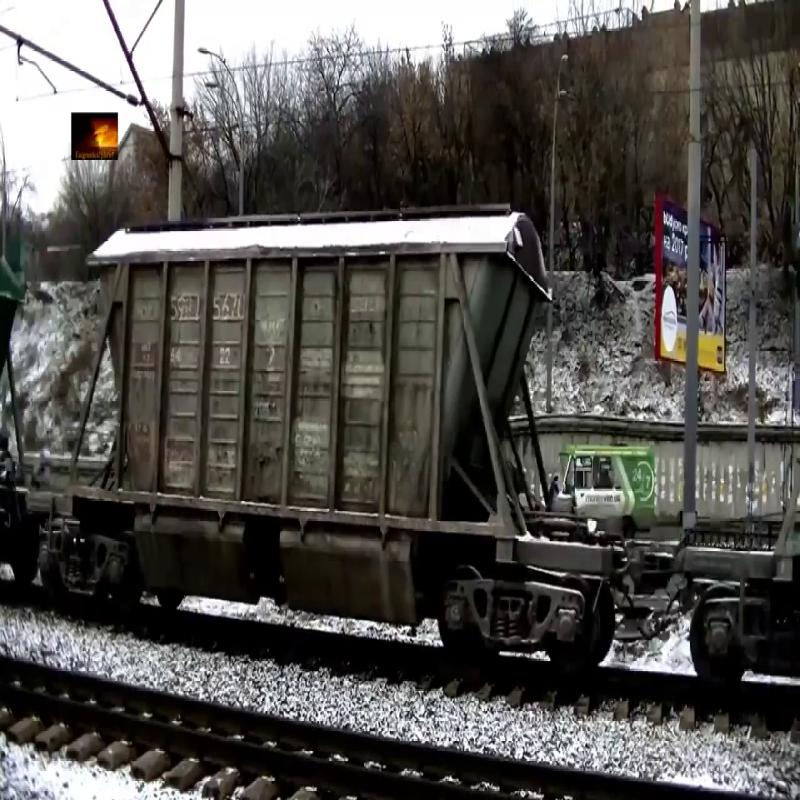train: (61, 202, 559, 628), (3, 240, 25, 538)
